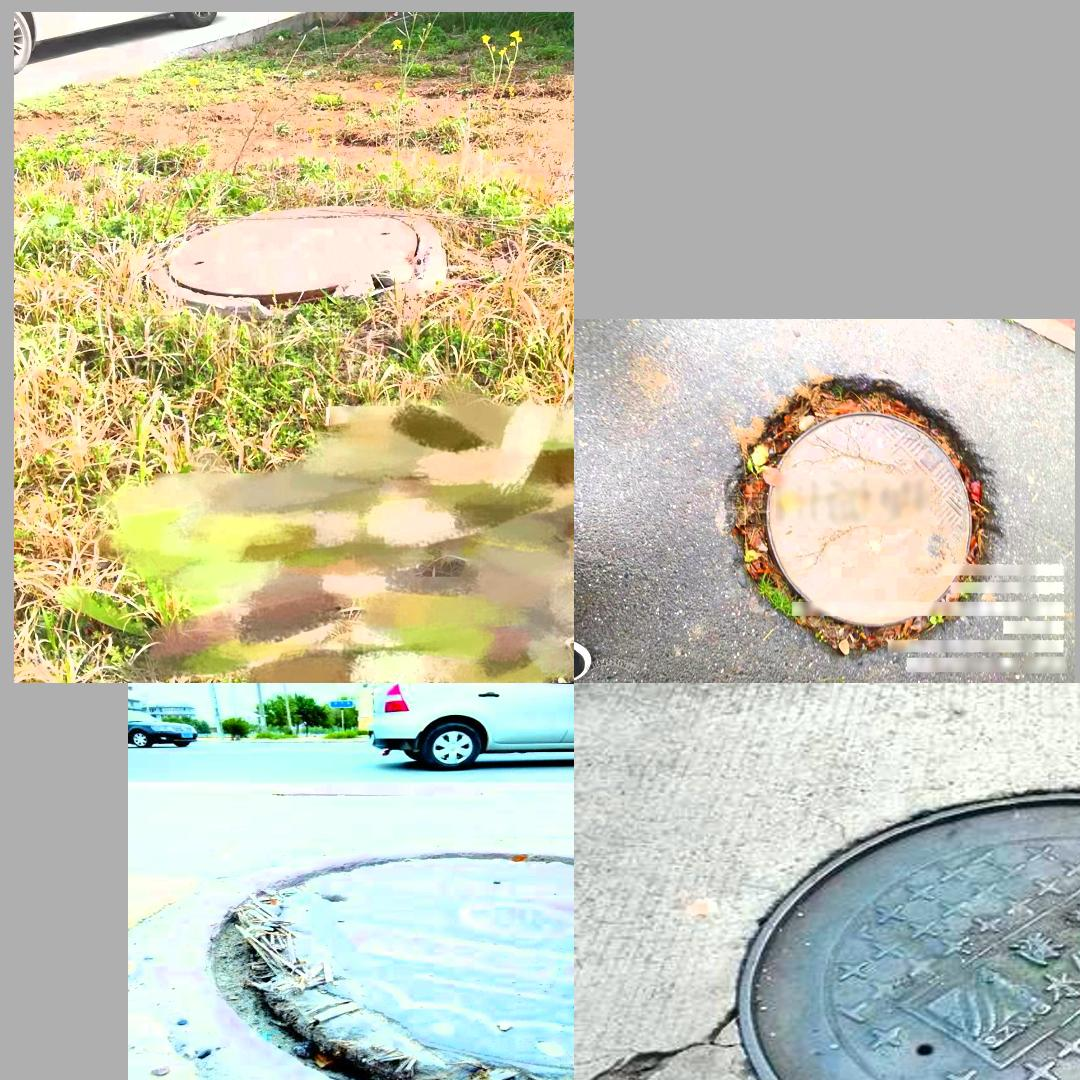circle: (594, 745, 1080, 1080), (153, 837, 566, 1080), (724, 377, 1004, 651), (129, 198, 443, 320)
